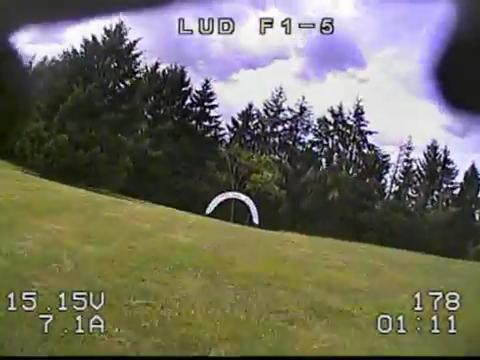gate: (204, 191, 258, 226)
